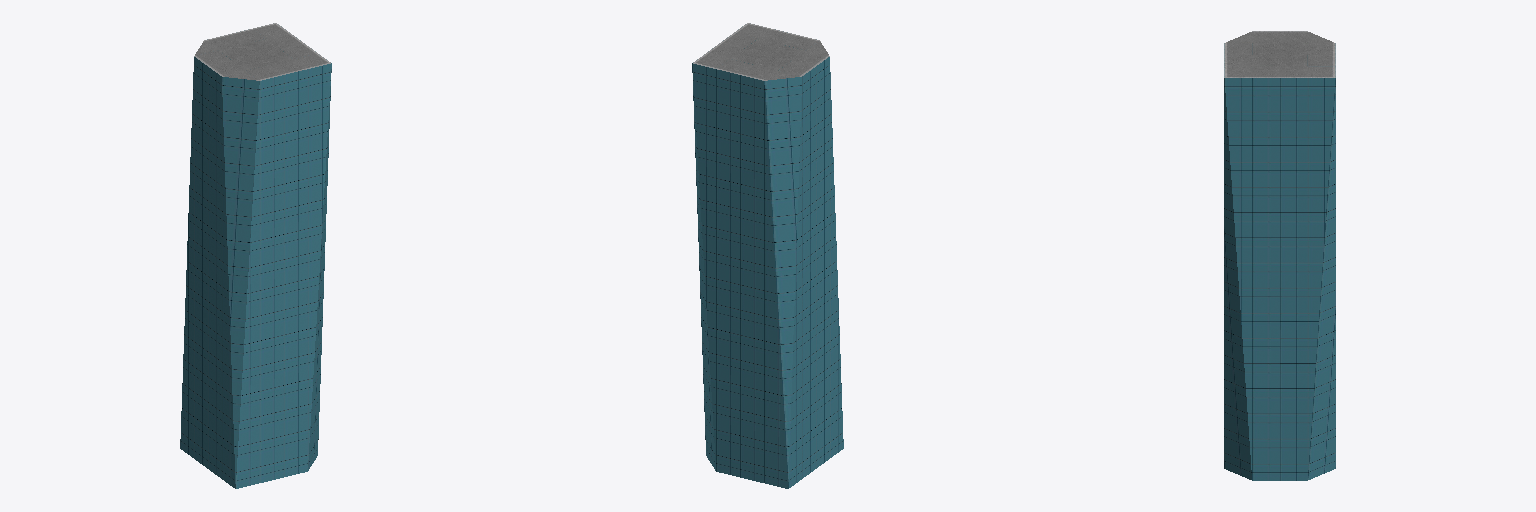
3 views of the same model, side by side, from view 1: azimuth 30°, elevation 25°; view 2: azimuth 150°, elevation 25°; view 3: azimuth 270°, elevation 25° (orthographic).
Visible parts, largest first — view 1: Building_bevelCorners; view 2: Building_bevelCorners; view 3: Building_bevelCorners.
Boxes of the visible parts, box(x1,y1,x2,y2) form: Building_bevelCorners: box(180, 23, 331, 488); Building_bevelCorners: box(692, 23, 843, 488); Building_bevelCorners: box(1224, 31, 1335, 480).
Bounding box in the file's own units: 19.51 × 78.04 × 19.51.
1 materials, 1 textured.